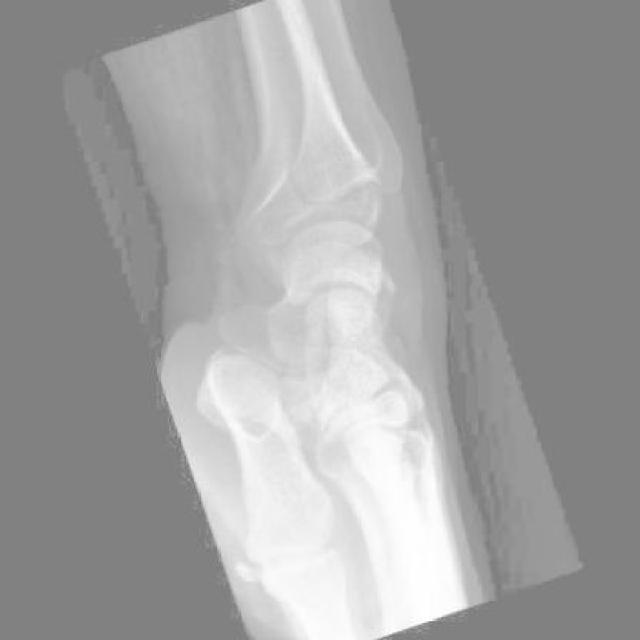Fracture: (381, 282, 417, 322)
